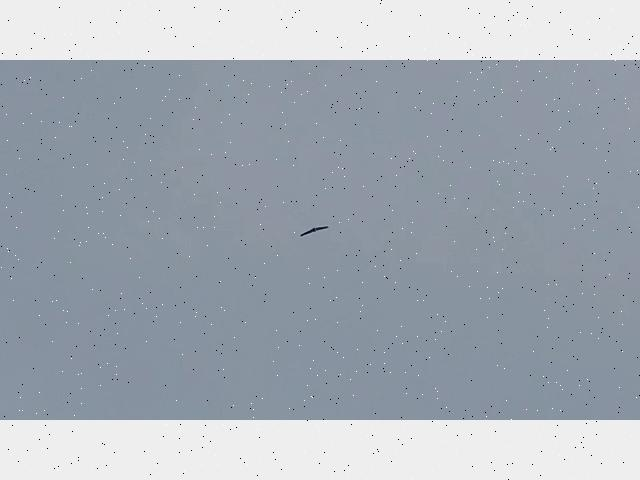Anti-Drone: (299, 225, 329, 237)
